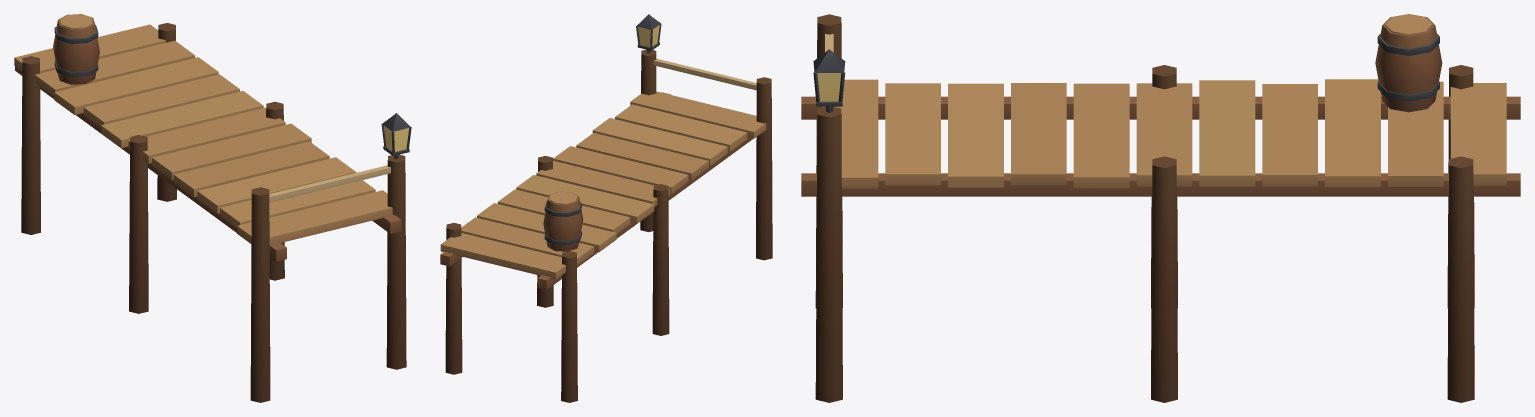
File: dock.glb
3 renders of one model, left to right at view 1: azimuth 30°, elevation 25°; view 2: azimuth 150°, elevation 25°; view 3: azimuth 270°, elevation 25°, orthographic. The views are drawn at different scales.
Visible parts, largest first — view 1: dock; view 2: dock; view 3: dock.
Boxes of the visible parts, left/top/right/bottom form: dock: left=14, top=14, right=411, bottom=402; dock: left=440, top=14, right=772, bottom=402; dock: left=801, top=14, right=1520, bottom=402.
Size of the model in its own units: 7.11 by 10.98 by 20.6.
1 material, 1 textured.
